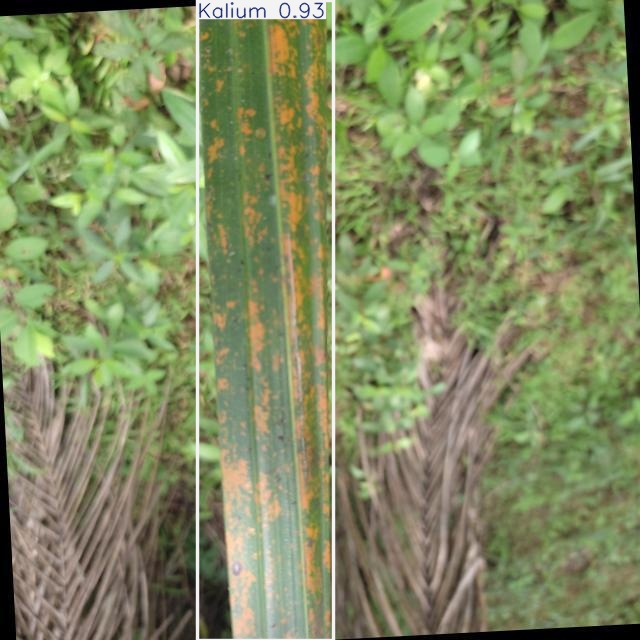Kalium: (197, 0, 334, 640)
